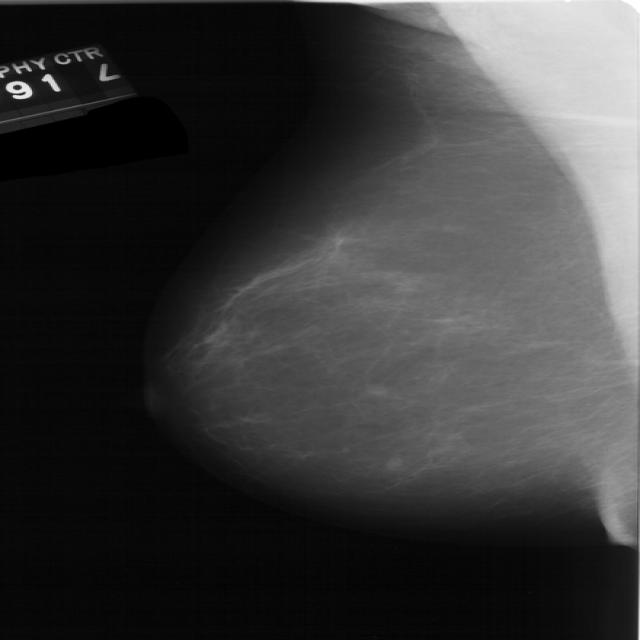tumour: (382, 456, 402, 468)
